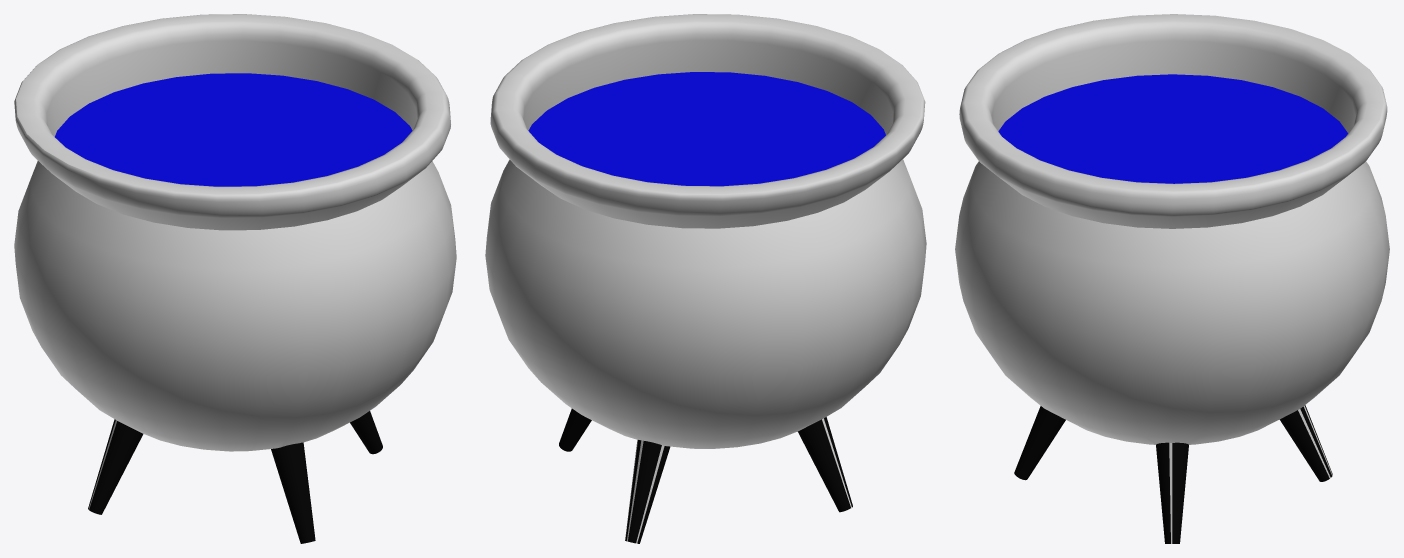
Rendered from Cauldron.fbx.
3 views of the same model, side by side, from view 1: azimuth 30°, elevation 25°; view 2: azimuth 150°, elevation 25°; view 3: azimuth 270°, elevation 25° (orthographic).
Parts seen in each view (by area): view 1: Cauldron; view 2: Cauldron; view 3: Cauldron.
Boxes of the visible parts, box(x1,y1,x2,y2) form: Cauldron: box(14, 14, 456, 543); Cauldron: box(485, 14, 926, 543); Cauldron: box(955, 14, 1389, 543).
Size of the model in its own units: 200 by 192 by 200.
